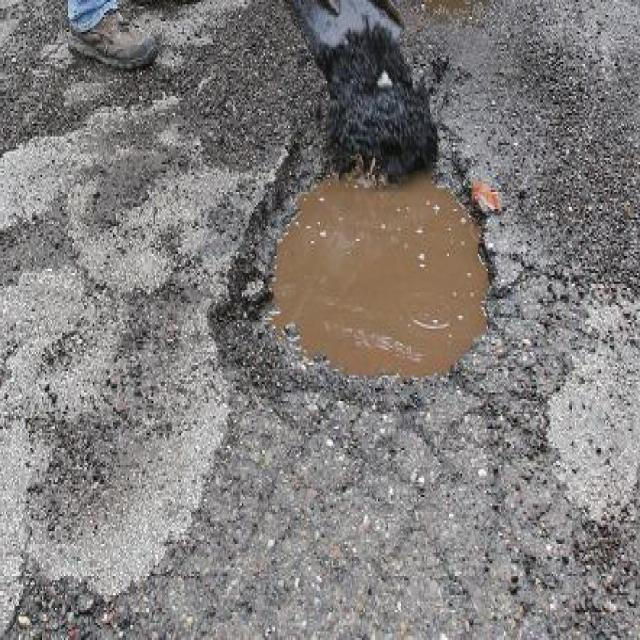Pothole: (208, 108, 505, 428)
